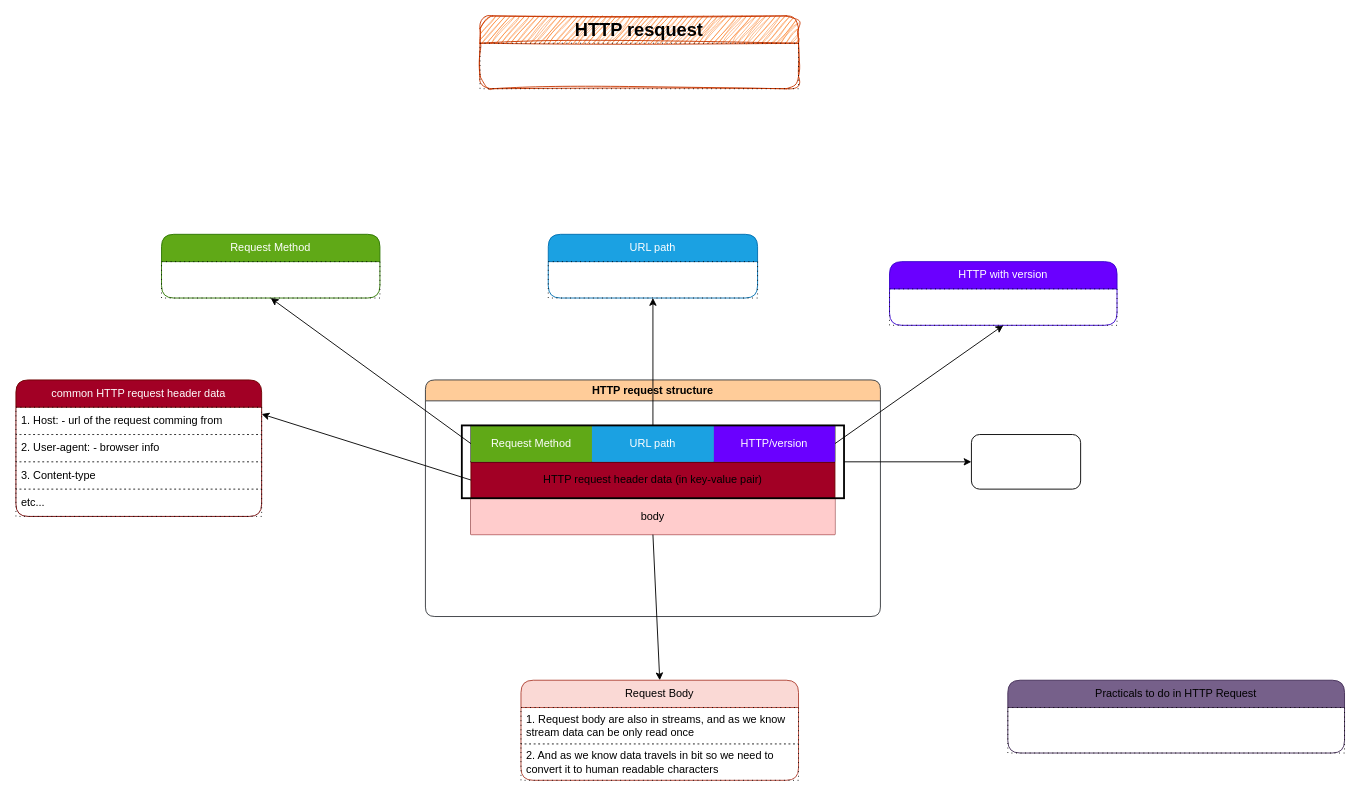
This 1360x796 diagram has some shape labels left out. Here are the shapes that lost their labels. From the top down, the centre of each, then its label:
At (x=639, y=65): "HTTP Request is a writable stream for client and readablestream for server".
At (x=270, y=279): "We have request methods for Different CRUD operations".
At (x=652, y=279): "Url path of from where the request is comming from".
At (x=1003, y=306): "http with version so that server can know with protocol to follow".
At (x=1026, y=461): "Request Header".
At (x=1176, y=730): "1. find Practicals in http.svg".
